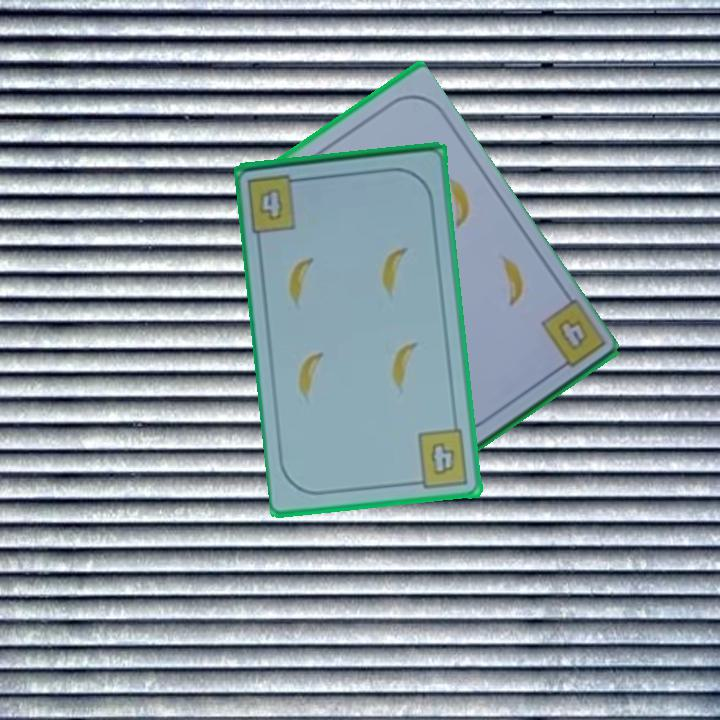4b: (536, 296, 607, 377), (244, 170, 309, 235), (409, 425, 471, 491)
